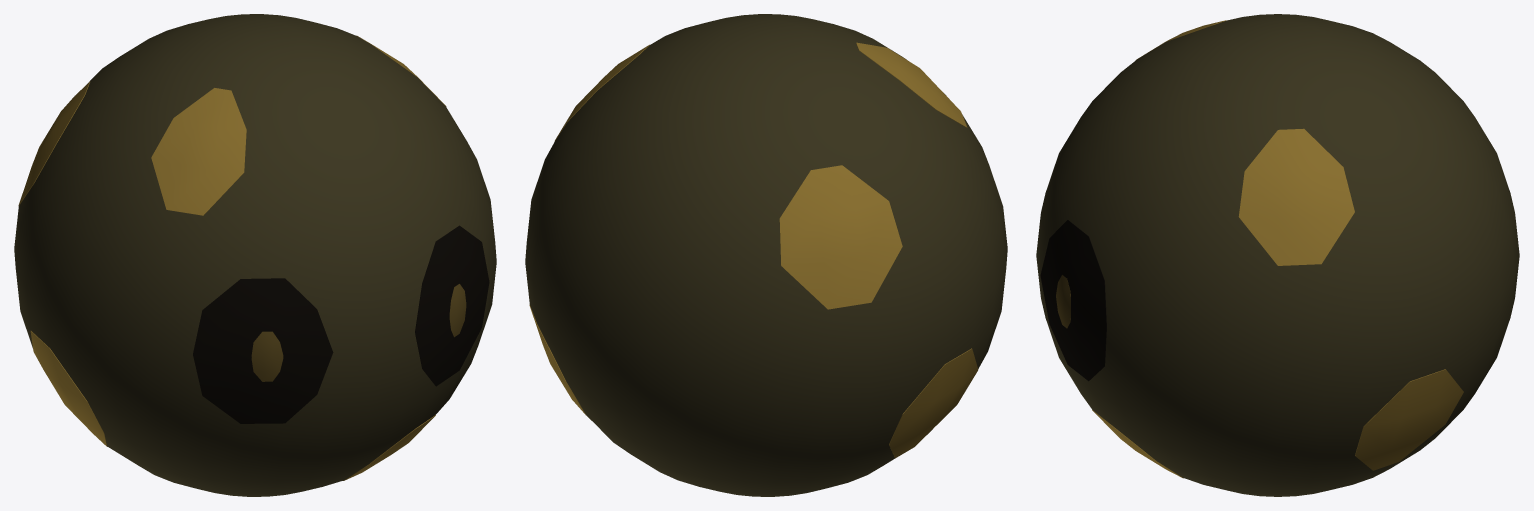
Rendered from Kali01.fbx.
The picture shows the model from 3 angles, left to right: view 1: azimuth 30°, elevation 25°; view 2: azimuth 150°, elevation 25°; view 3: azimuth 270°, elevation 25°; orthographic projection.
Parts seen in each view (by area): view 1: Kali; view 2: Kali; view 3: Kali.
Boxes of the visible parts, left/top/right/bottom form: Kali: left=14, top=14, right=496, bottom=496; Kali: left=525, top=14, right=1007, bottom=496; Kali: left=1036, top=14, right=1519, bottom=496.
Bounding box in the file's own units: 100 × 100 × 100.
